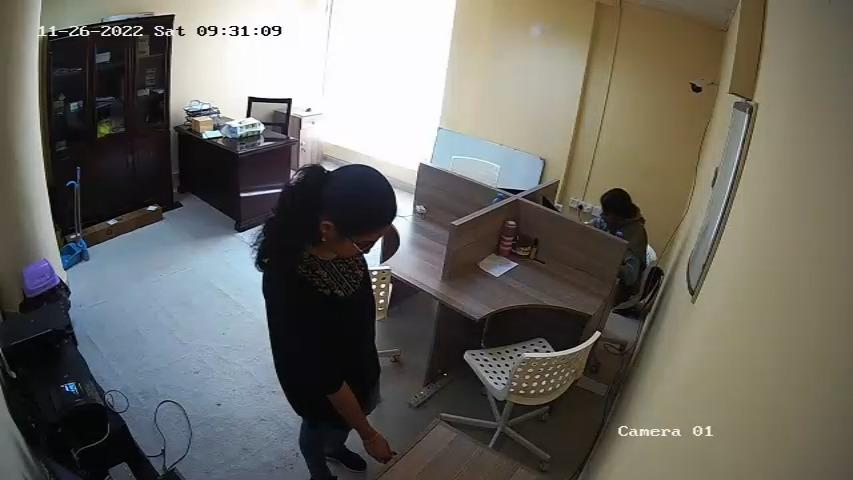no_apron: (320, 264, 375, 382)
